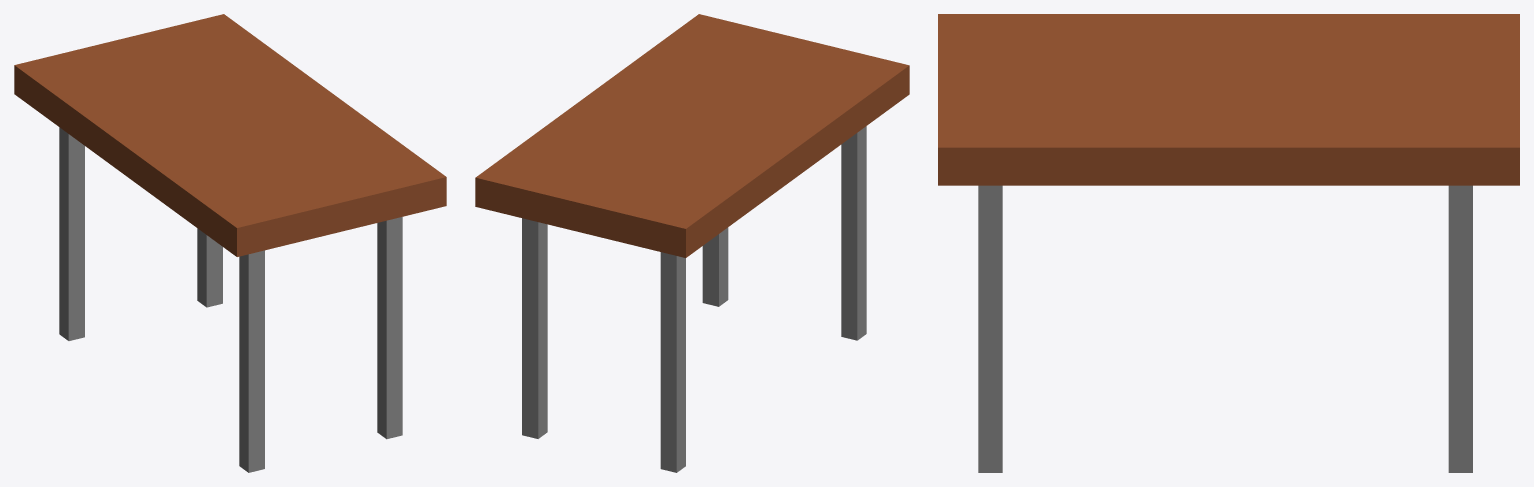
Rendered from table.glb.
3 renders of one model, left to right at view 1: azimuth 30°, elevation 25°; view 2: azimuth 150°, elevation 25°; view 3: azimuth 270°, elevation 25°, orthographic. The views are drawn at different scales.
Parts seen in each view (by area): view 1: table; view 2: table; view 3: table.
Part boxes in pixels (x1,y1,x2,y2): table: [14, 14, 446, 472]; table: [475, 14, 909, 472]; table: [938, 14, 1519, 472].
Bounding box in the file's own units: 0.5819 × 0.6971 × 1.07.
